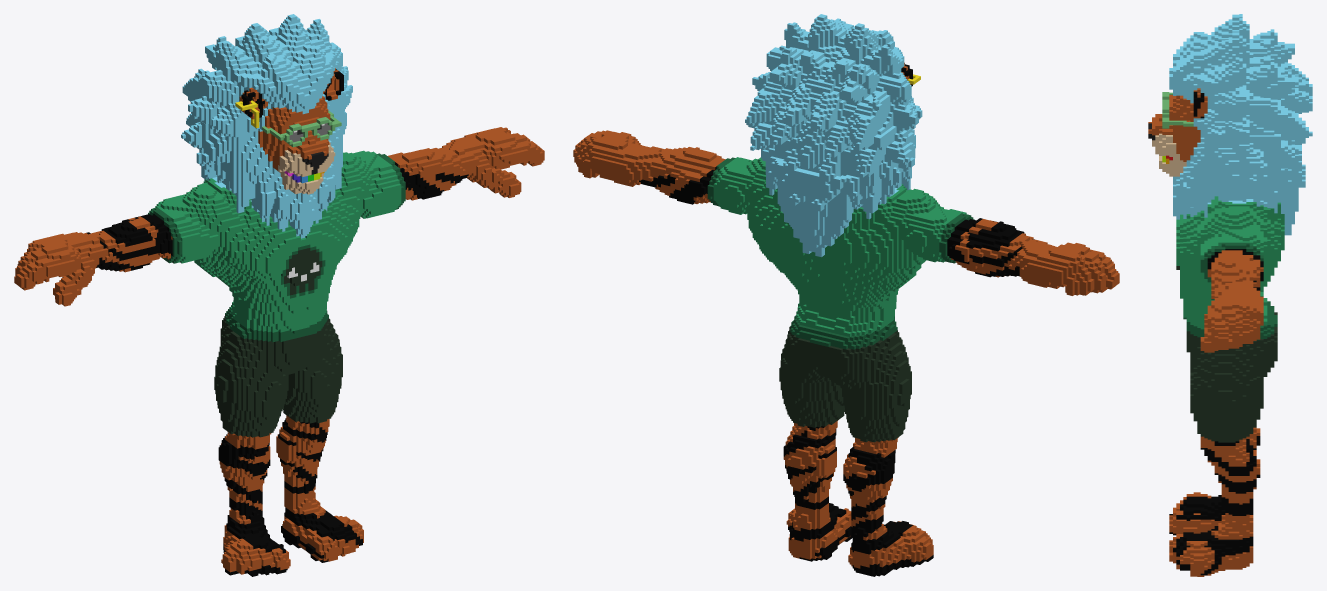
The model's file is 133-PsIdKyu1.glb.
3 renders of one model, left to right at view 1: azimuth 30°, elevation 25°; view 2: azimuth 150°, elevation 25°; view 3: azimuth 270°, elevation 25°, orthographic. The views are drawn at different scales.
Visible parts, largest first — view 1: rainbow_grill; view 2: rainbow_grill; view 3: rainbow_grill.
Part boxes in pixels (x1,y1,x2,y2): rainbow_grill: [14, 14, 544, 576]; rainbow_grill: [573, 14, 1119, 576]; rainbow_grill: [1148, 14, 1312, 576].
Bounding box in the file's own units: 17.2 × 16.5 × 4.7.
6 materials, 6 textured.
